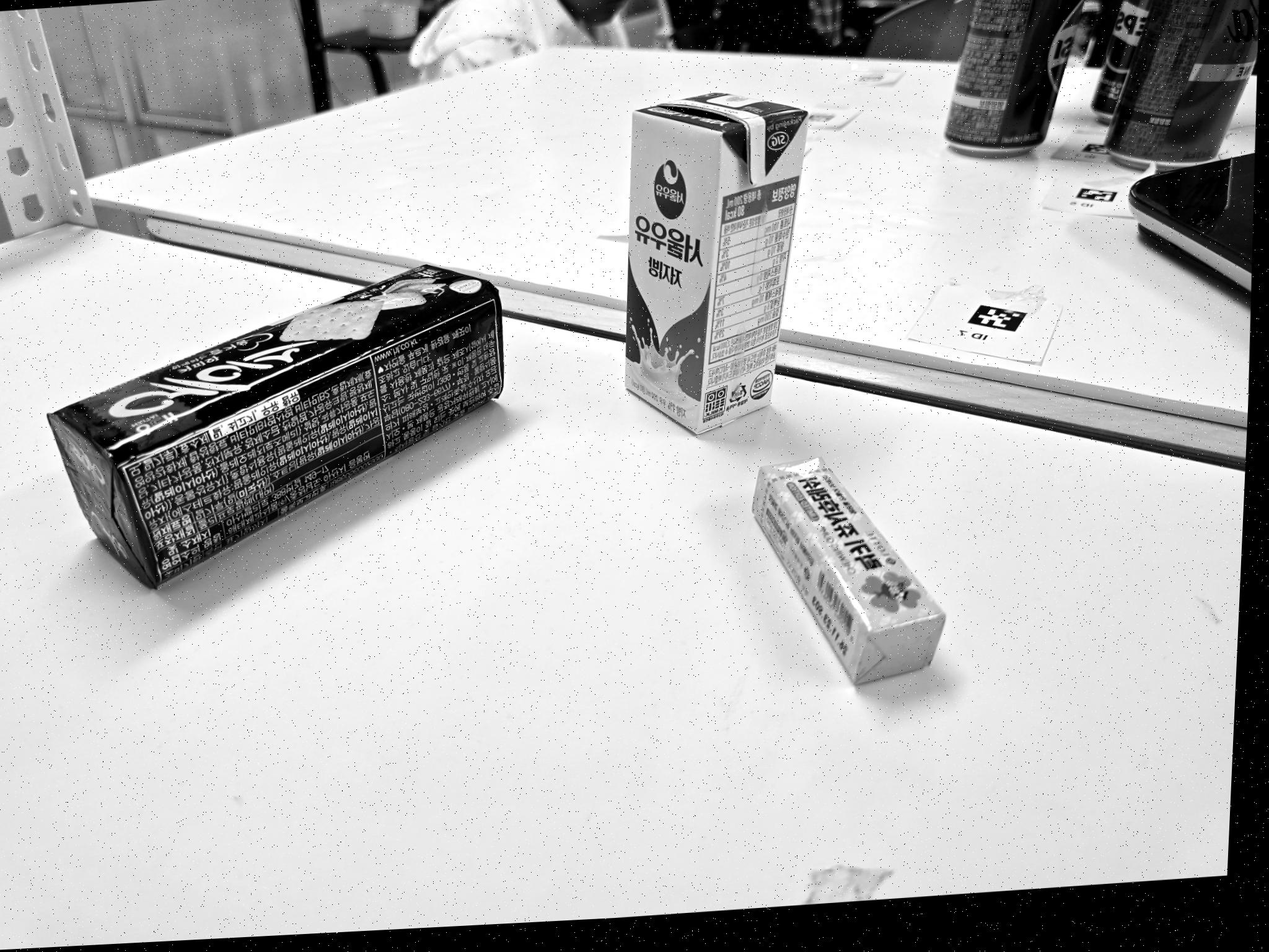cracker_ace: (48, 264, 504, 587)
gum_yellow: (753, 458, 946, 684)
milk_blue: (624, 92, 808, 433)
